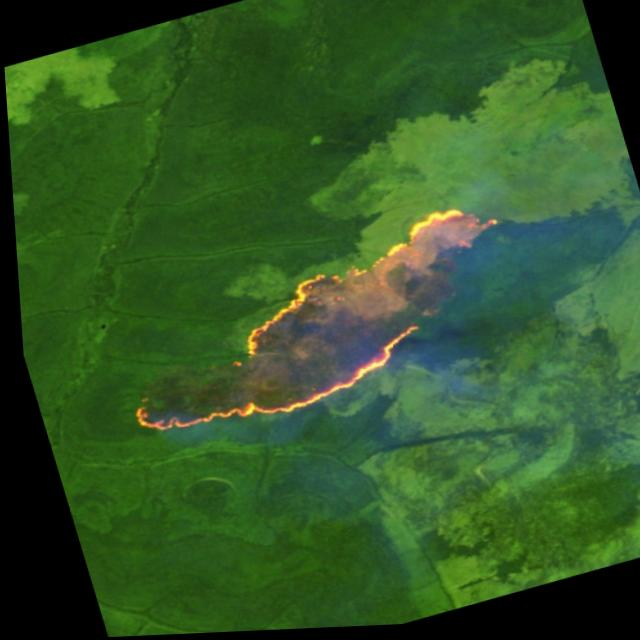fire: (86, 193, 540, 458)
